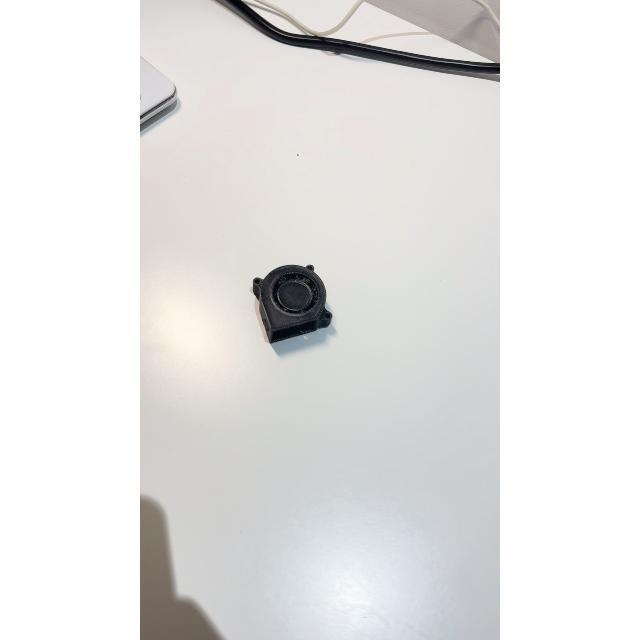Pieza3: (247, 255, 343, 355)
